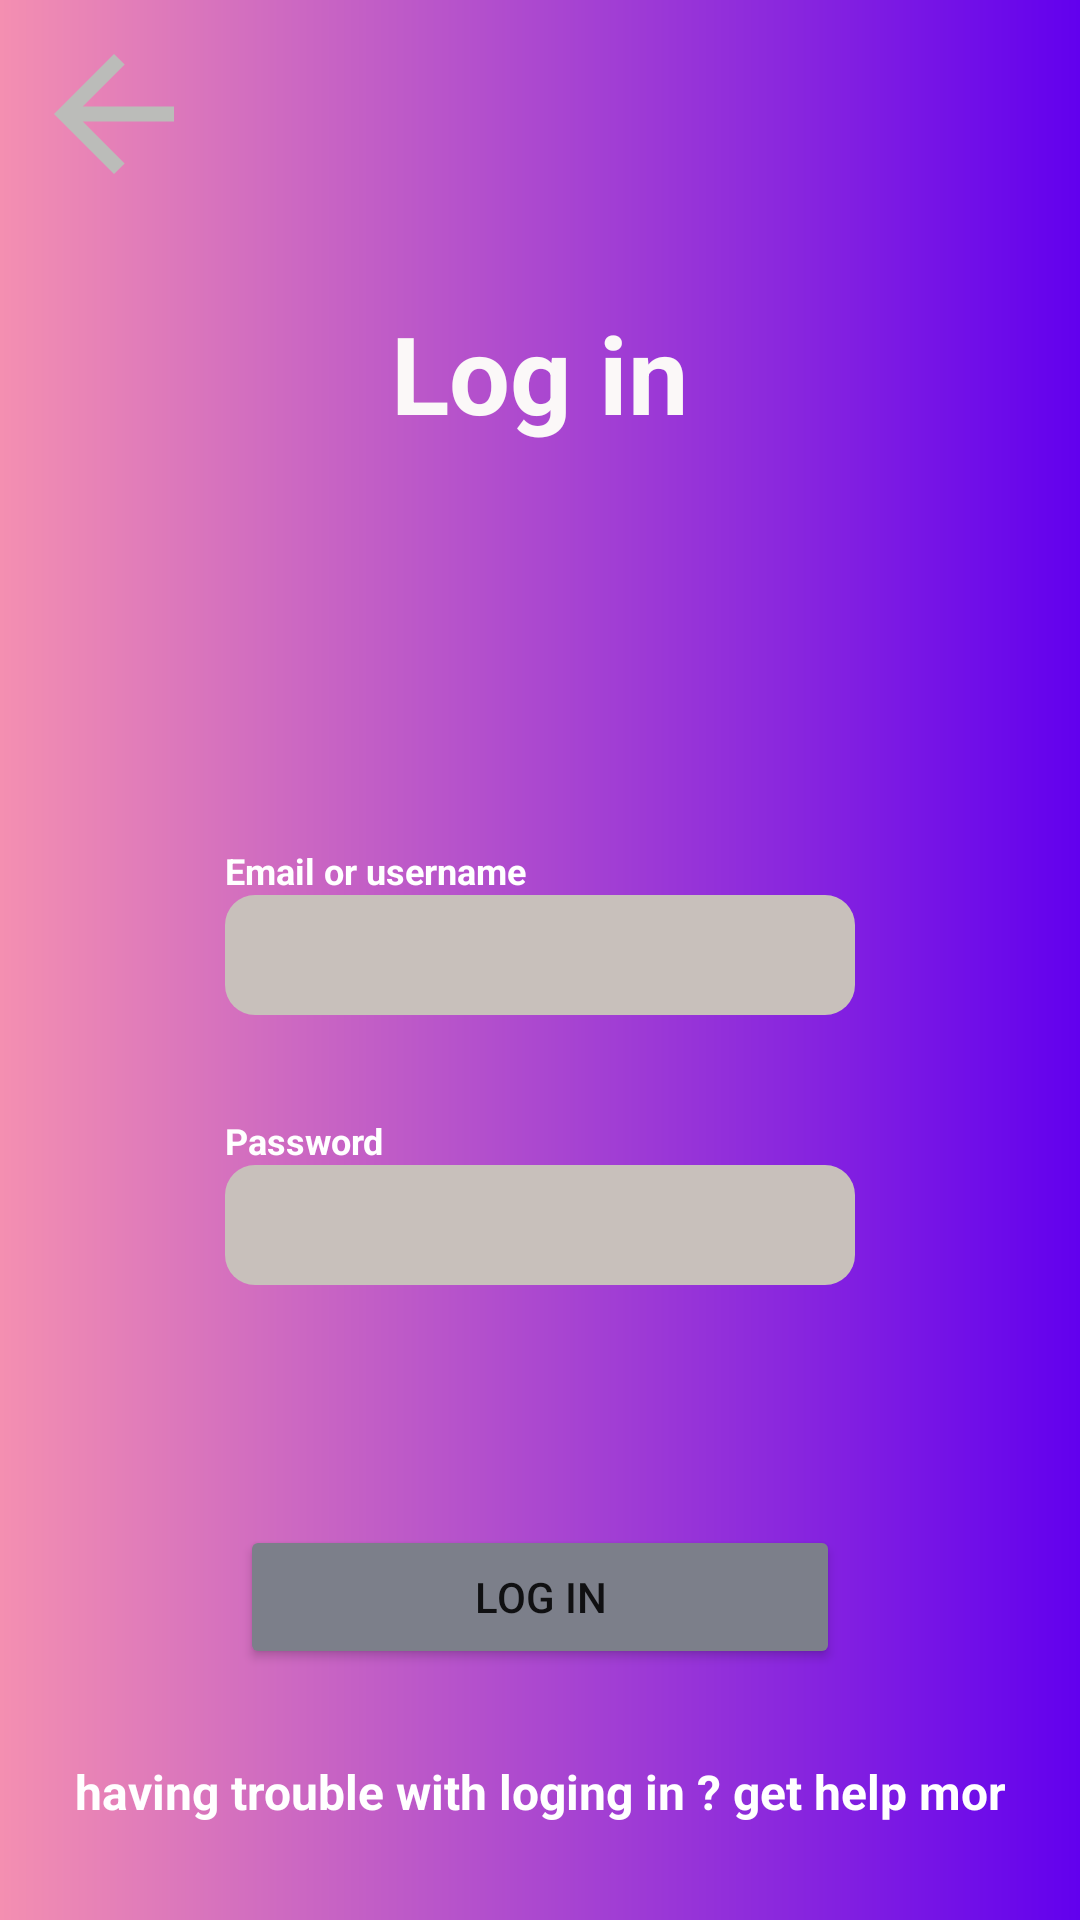

Named icons in this screenshot (1080×1920) and their bounding boxes, [x1=x1, y1=y1, x2=x2, y2=y2]:
arrow back: [x1=24, y1=24, x2=174, y2=204]
